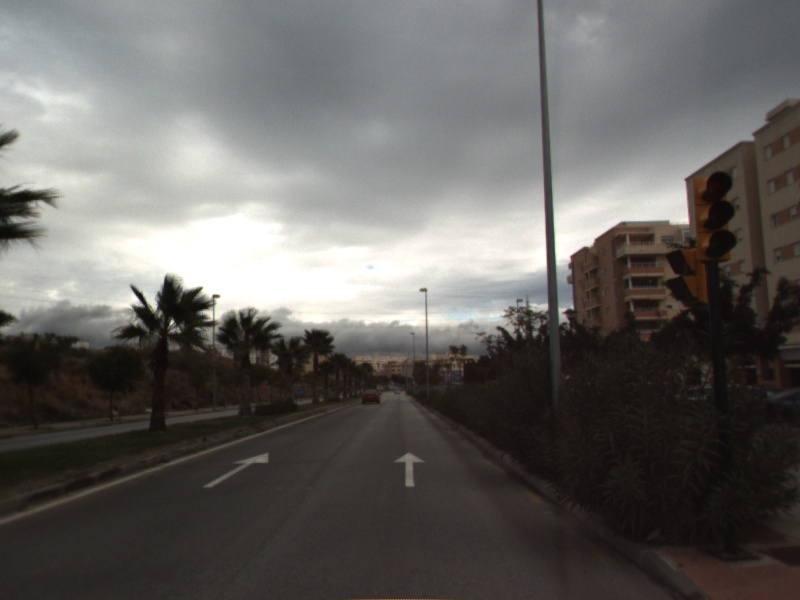STRAIGHT: (201, 451, 270, 490), (392, 450, 427, 488)
